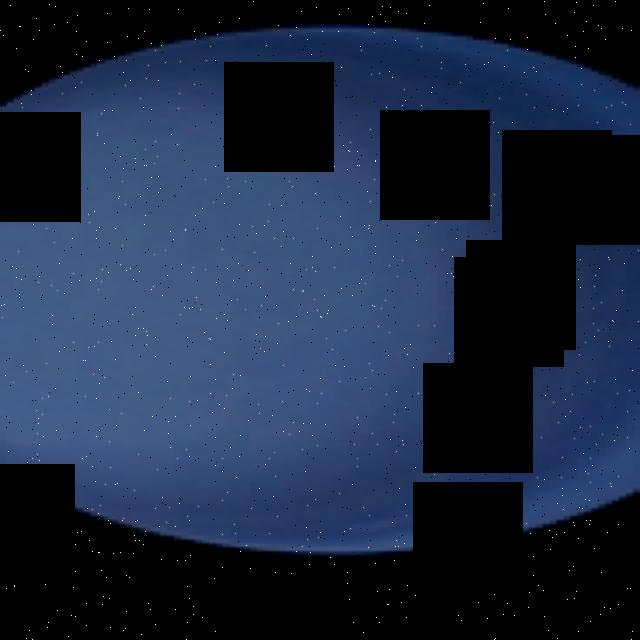Neptune: (0, 24, 640, 558)
